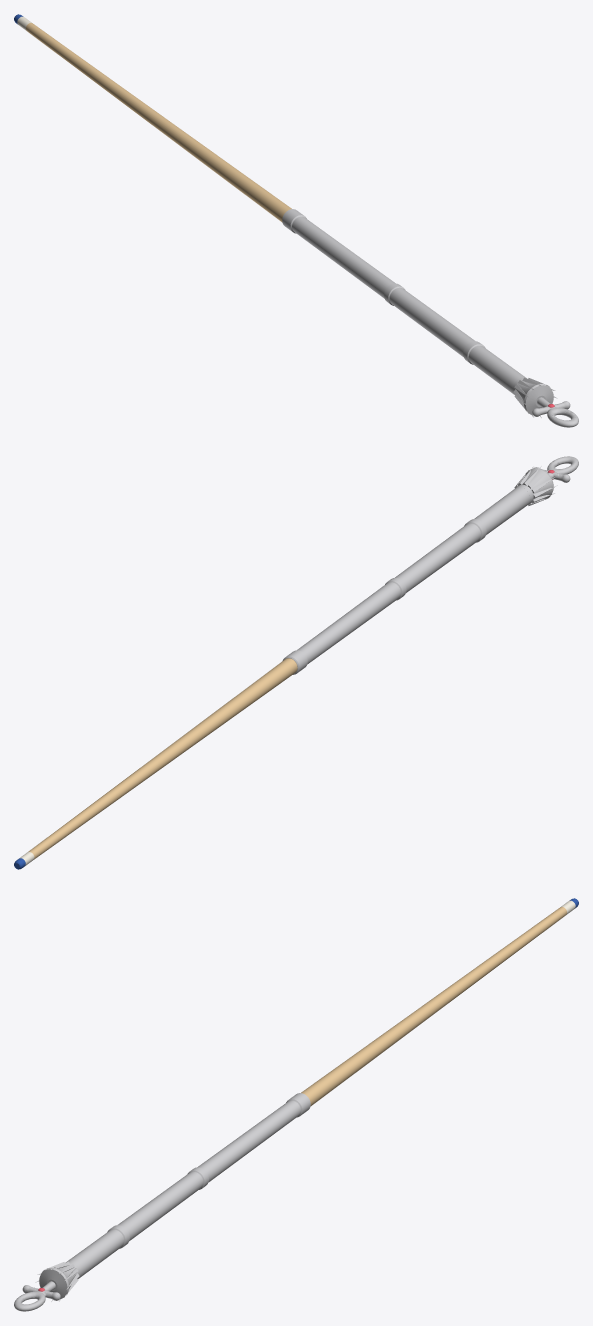
The model's file is cue_pharaoh.glb.
3 renders of one model, top to bottom at view 1: azimuth 30°, elevation 25°; view 2: azimuth 150°, elevation 25°; view 3: azimuth 330°, elevation 25°, orthographic.
Visible parts, largest first — view 1: bands, shaft, gold; view 2: bands, shaft, gold; view 3: bands, shaft, gold.
Part boxes in pixels (x1=…): bands: x1=292, y1=216, x2=525, y2=394; shaft: x1=26, y1=23, x2=291, y2=221; gold: x1=282, y1=209, x2=578, y2=427; bands: x1=297, y1=487, x2=530, y2=664; shaft: x1=28, y1=658, x2=297, y2=859; gold: x1=282, y1=456, x2=578, y2=674; bands: x1=67, y1=1100, x2=300, y2=1278; shaft: x1=301, y1=907, x2=566, y2=1105; gold: x1=14, y1=1093, x2=310, y2=1311.
Bounding box in the file's own units: 0.0563 × 0.0474 × 1.47.
